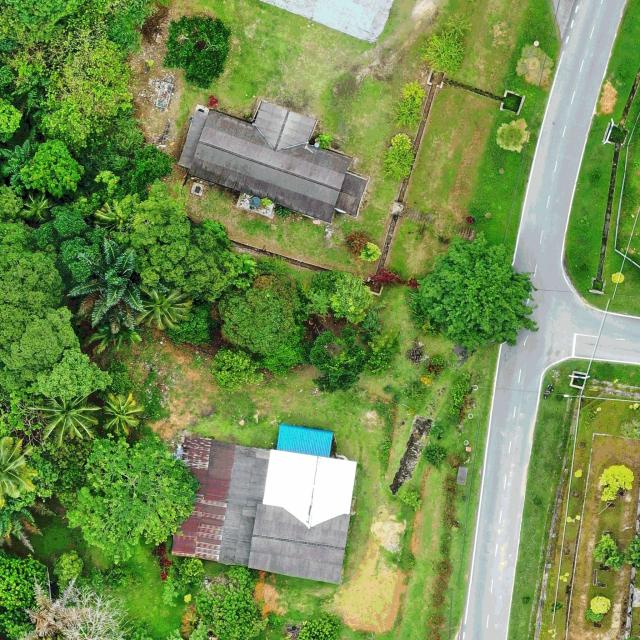Tree: (62, 431, 200, 566), (414, 235, 539, 354), (139, 219, 259, 302), (66, 230, 156, 329), (219, 281, 310, 375), (192, 564, 269, 640), (0, 222, 66, 309), (0, 304, 82, 373), (132, 176, 190, 272), (161, 14, 234, 89), (0, 547, 50, 640), (24, 346, 110, 399), (20, 137, 85, 198), (308, 326, 367, 392), (27, 396, 101, 448), (309, 267, 373, 326), (127, 282, 193, 330), (31, 205, 88, 250), (209, 345, 259, 394), (0, 437, 38, 500), (422, 26, 468, 78), (60, 234, 105, 282), (102, 390, 146, 438), (0, 138, 39, 186), (390, 80, 428, 129), (381, 132, 417, 180), (598, 463, 635, 504), (51, 549, 85, 591), (20, 190, 56, 224), (592, 532, 622, 571), (177, 556, 207, 585), (423, 443, 448, 467), (398, 488, 423, 511), (588, 594, 612, 616), (315, 132, 333, 150)
